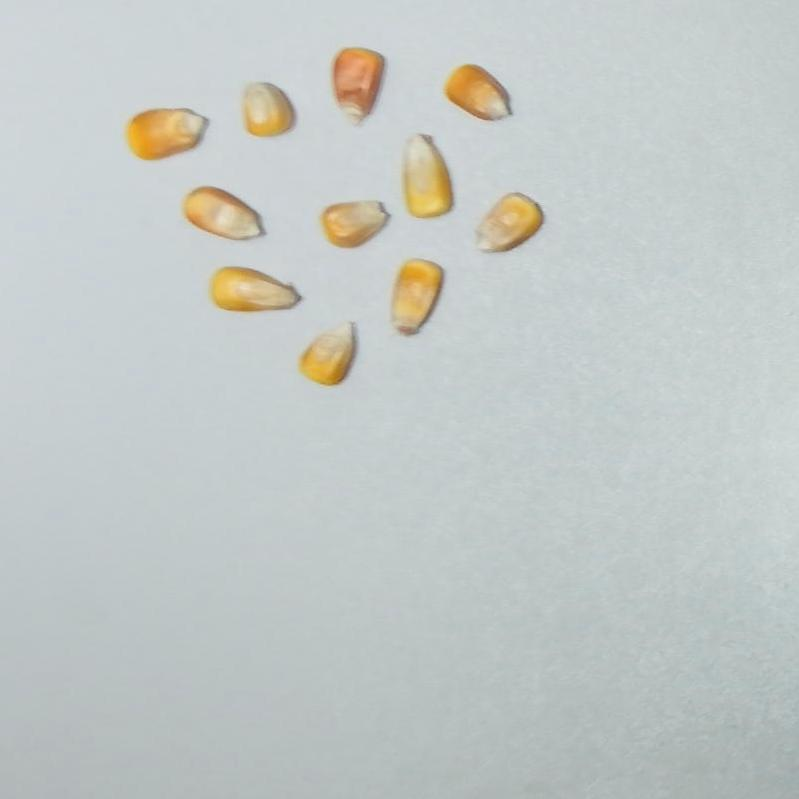corn: (464, 185, 549, 270), (178, 178, 269, 254), (439, 56, 524, 134), (121, 95, 212, 166), (320, 41, 388, 129), (314, 183, 392, 257), (382, 254, 445, 339), (296, 311, 362, 389), (402, 133, 452, 219), (210, 266, 300, 311), (242, 80, 293, 139)
